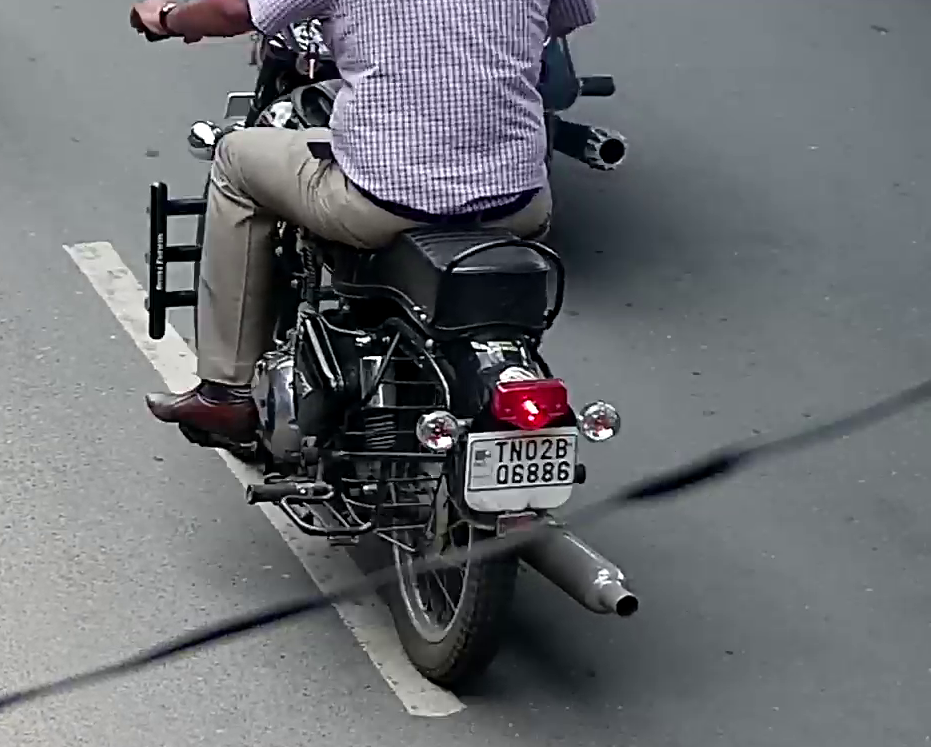0: (524, 439, 538, 461), (496, 464, 509, 485)
2: (540, 439, 553, 460)
6: (511, 463, 524, 484), (557, 460, 570, 481)
8: (541, 461, 554, 482), (526, 463, 539, 483)
B: (555, 438, 568, 459)
N: (508, 440, 523, 462)
P2: (466, 433, 579, 495)
T: (494, 441, 508, 462)
